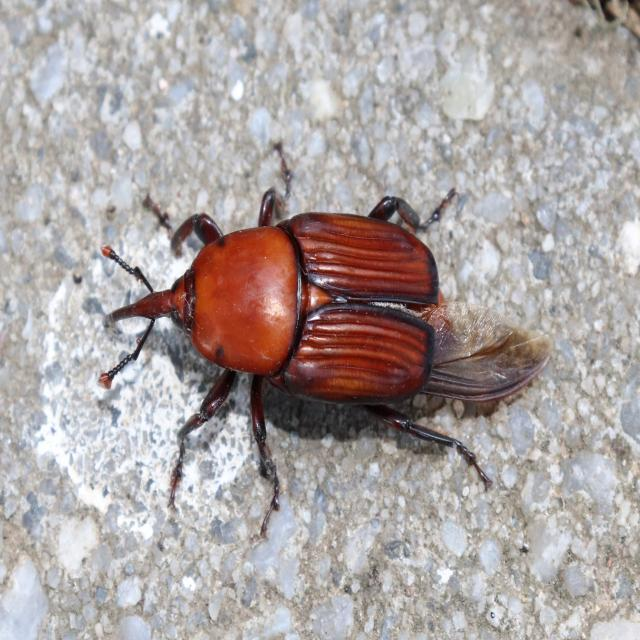Red-palm-weevil: (88, 202, 475, 462)
